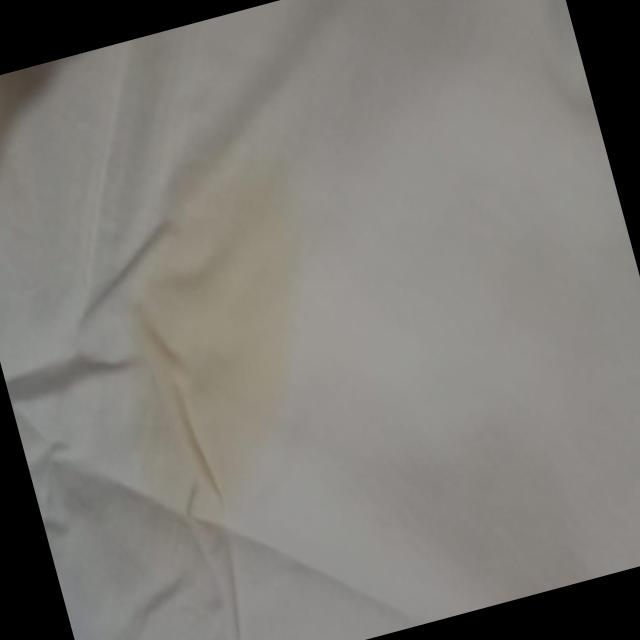stain: (78, 155, 350, 524)
